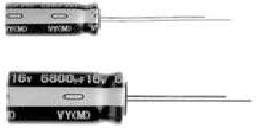Electrolytic-Capacitor: (5, 68, 256, 127), (2, 2, 235, 40)
